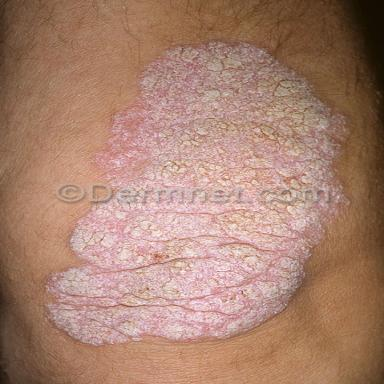Psoriasis: (41, 204, 342, 346), (90, 38, 351, 186)
